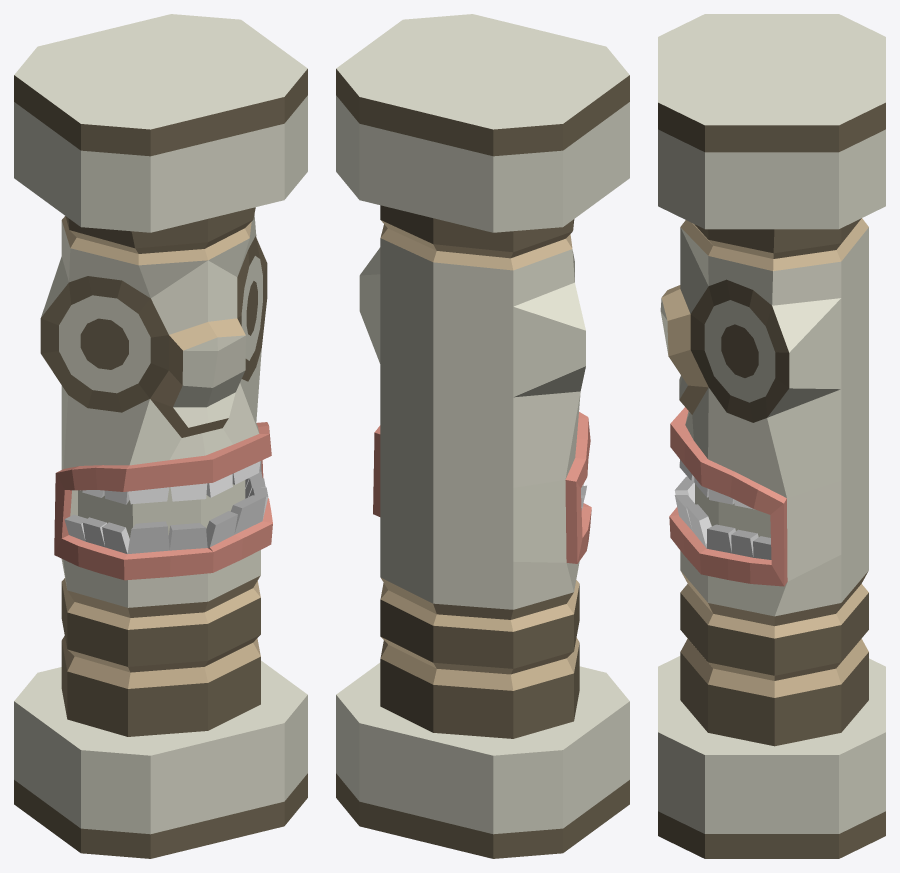
File: Totem_2.fbx
3 renders of one model, left to right at view 1: azimuth 30°, elevation 25°; view 2: azimuth 150°, elevation 25°; view 3: azimuth 270°, elevation 25°, orthographic.
Visible parts, largest first — view 1: Cylinder.002; view 2: Cylinder.002; view 3: Cylinder.002.
Boxes of the visible parts, x1=… form: Cylinder.002: x1=14, y1=14, x2=307, y2=858; Cylinder.002: x1=336, y1=14, x2=629, y2=858; Cylinder.002: x1=658, y1=14, x2=885, y2=858.
Bounding box in the file's own units: 114 × 348 × 97.94.
